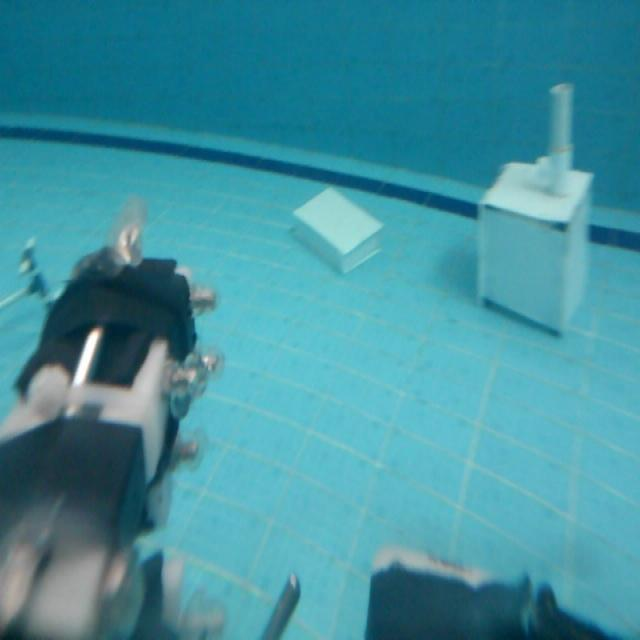Cube: (472, 153, 600, 344)
Cuboid: (290, 181, 385, 275)
